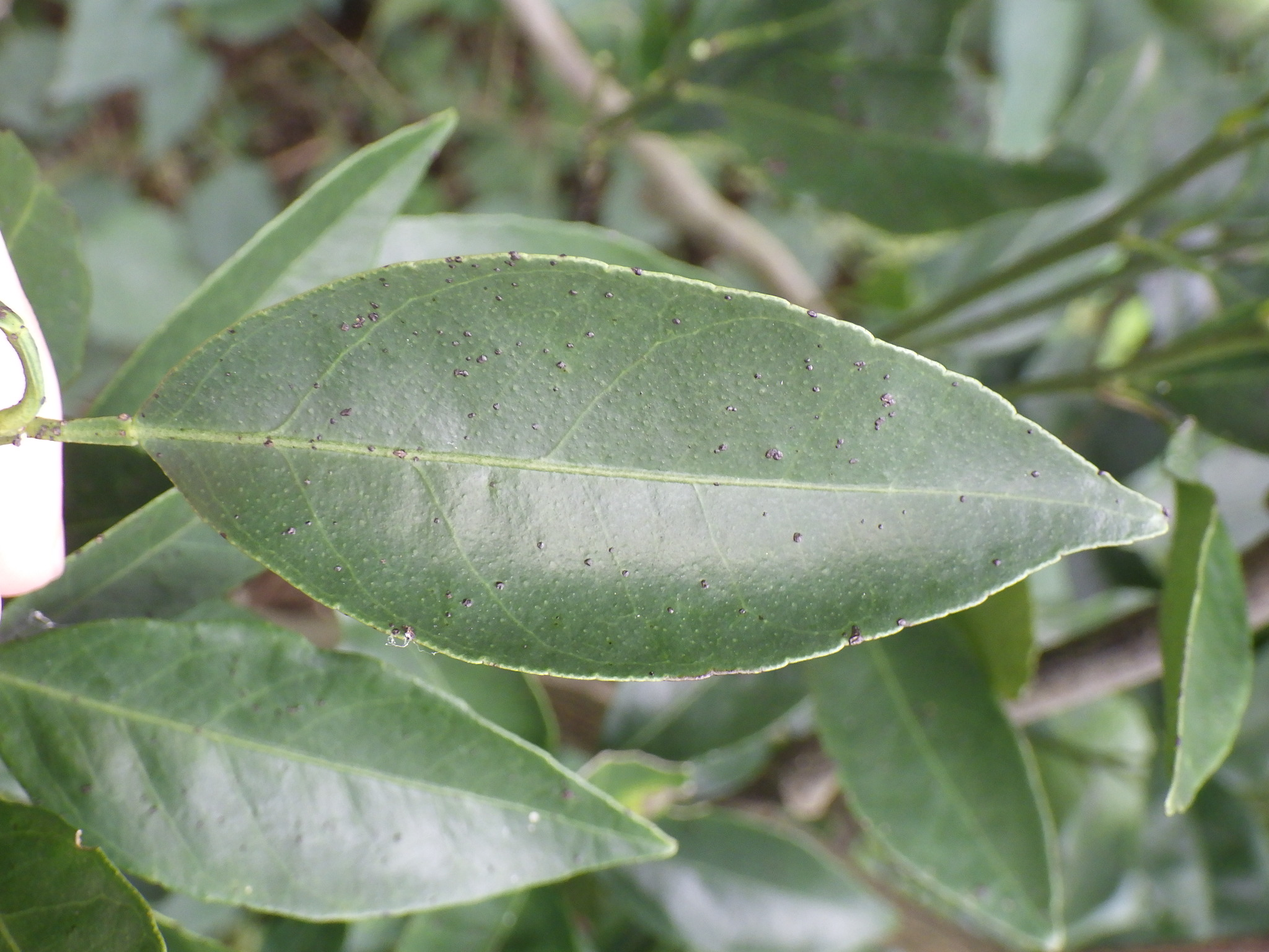Black_Spot: (74, 250, 1164, 679)
